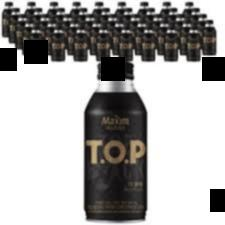TOP_black: (82, 59, 150, 223)
